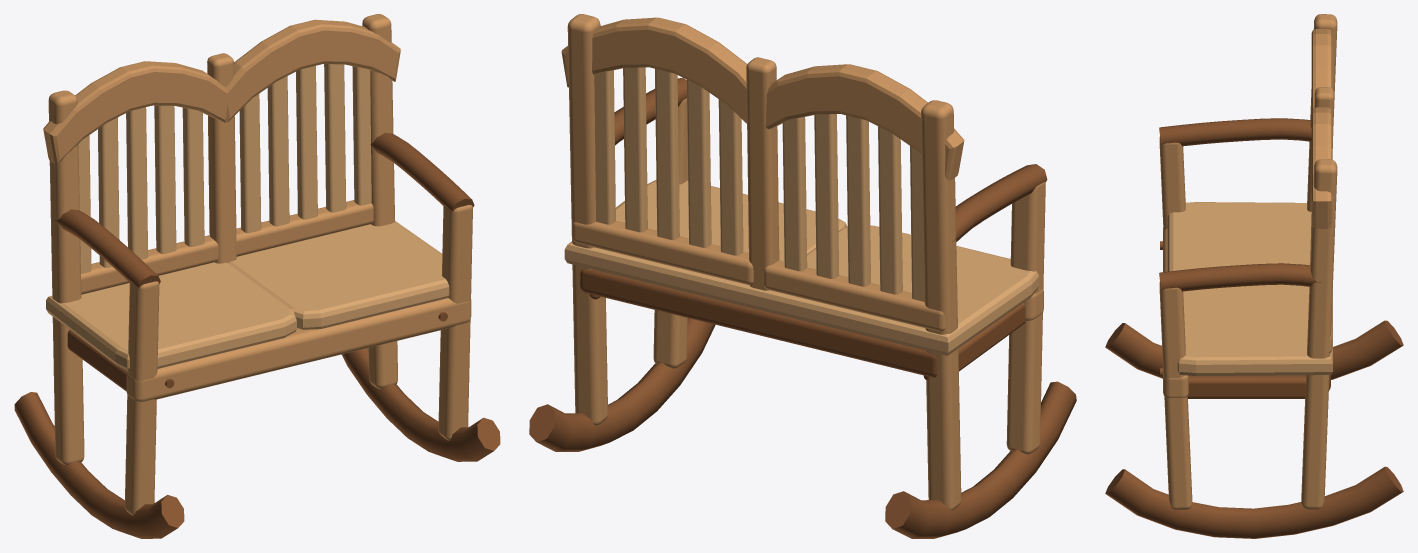
3 renders of one model, left to right at view 1: azimuth 30°, elevation 25°; view 2: azimuth 150°, elevation 25°; view 3: azimuth 270°, elevation 25°, orthographic. The views are drawn at different scales.
Parts seen in each view (by area): view 1: chapter-1; view 2: chapter-1; view 3: chapter-1.
Boxes of the visible parts, <box> form: chapter-1: <box>14,14,500,538</box>; chapter-1: <box>529,14,1076,538</box>; chapter-1: <box>1105,14,1403,538</box>.
Bounding box in the file's own units: 1.8 × 2 × 1.4.
